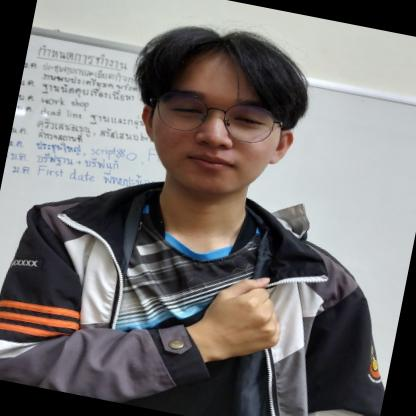Sad: (165, 257, 303, 380)
